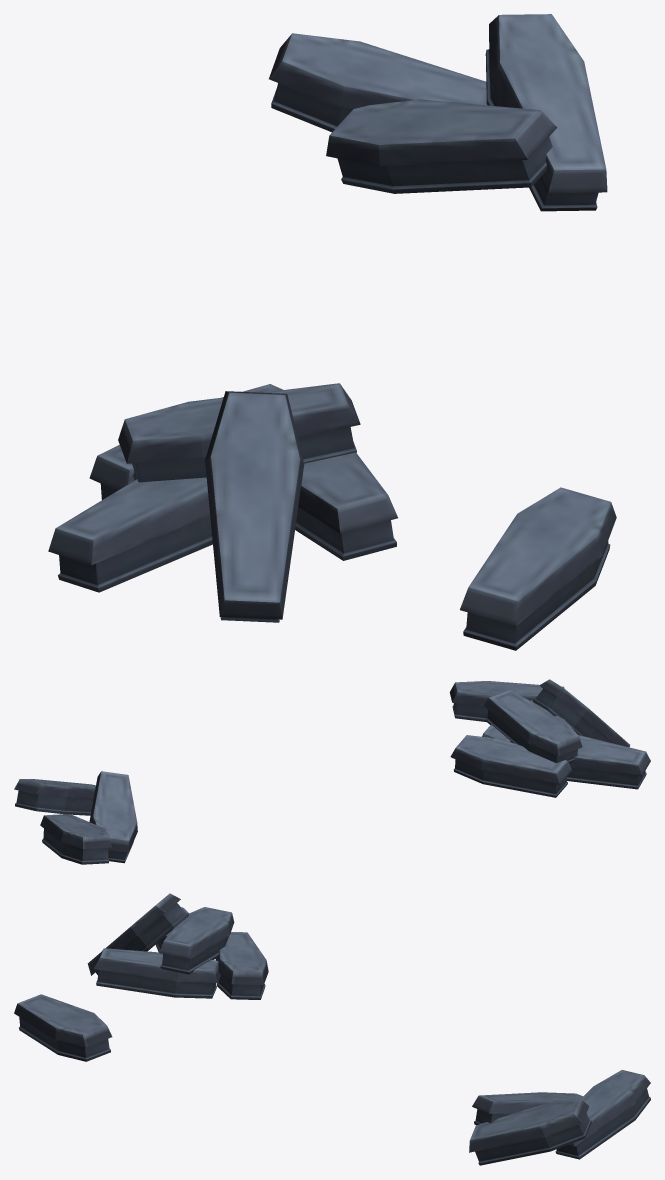
File: Area10_7.fbx
3 renders of one model, top to bottom at view 1: azimuth 30°, elevation 25°; view 2: azimuth 150°, elevation 25°; view 3: azimuth 270°, elevation 25°, orthographic. The views are drawn at different scales.
Parts seen in each view (by area): view 1: Area10_7; view 2: Area10_7; view 3: Area10_7.
Boxes of the visible parts, x1=… form: Area10_7: x1=48, y1=14, x2=616, y2=650; Area10_7: x1=14, y1=679, x2=650, y2=864; Area10_7: x1=14, y1=893, x2=650, y2=1165.
Size of the model in its own units: 1482 by 312 by 1762.
